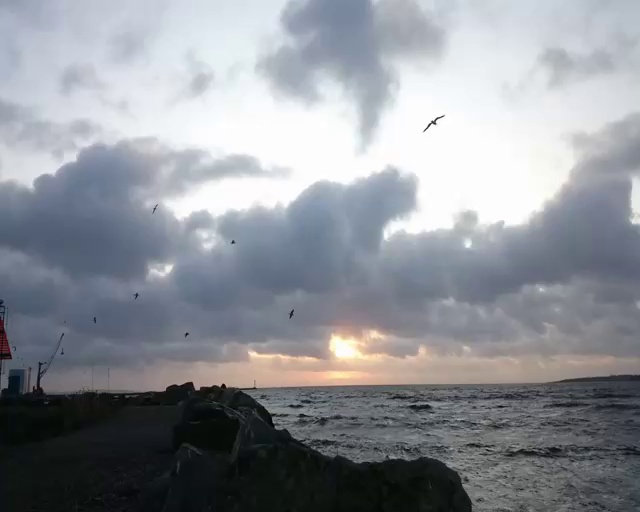BIRD: (422, 113, 446, 133)
